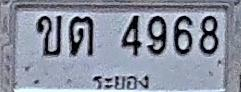4: (121, 15, 141, 56)
6: (174, 15, 192, 55)
8: (199, 15, 218, 55)
9: (147, 15, 166, 55)
A02: (36, 15, 62, 56)
A21: (69, 16, 93, 56)
RYG: (88, 72, 153, 92)
